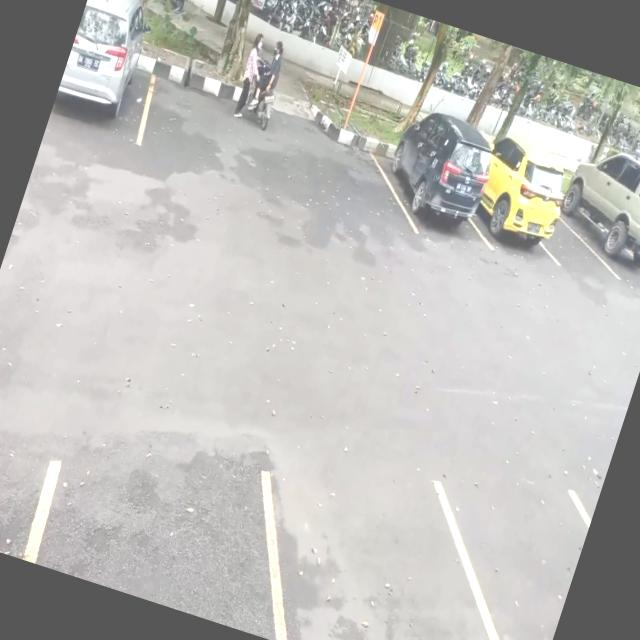empty: (20, 408, 304, 635), (251, 442, 544, 640)
occupied: (372, 110, 503, 250), (49, 5, 173, 148), (555, 148, 640, 293), (468, 160, 572, 268)
